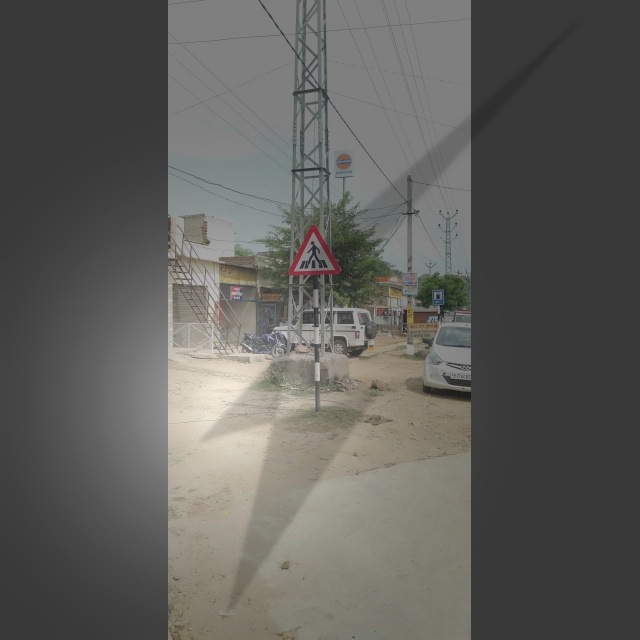Pedestrian_Crossing: (285, 223, 344, 281)
